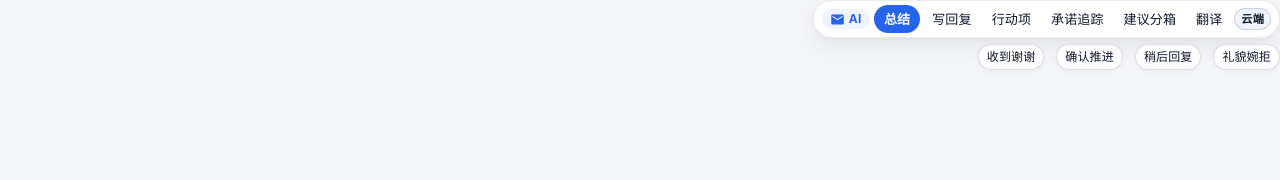
shows 翻译 button and displays translated text
Click the button with test id "translate-button": (1209, 19) left=1188, top=5, right=1230, bottom=33
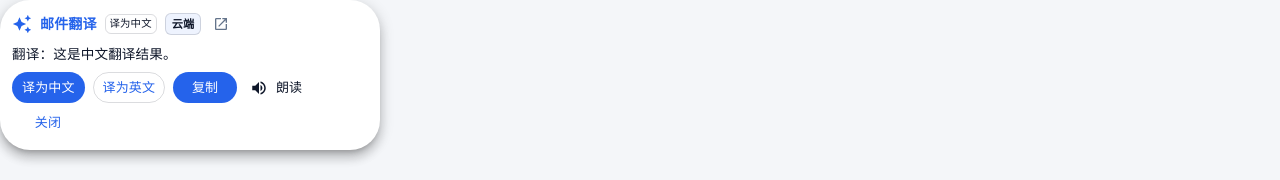
Check: the heading "邮件翻译" is shown, box left=40, top=13, right=97, bottom=35
Check: the text "翻译：这是中文翻译结果。" is shown, box left=12, top=46, right=177, bottom=62
Check: the button "复制" is shown, box left=173, top=72, right=237, bottom=103
